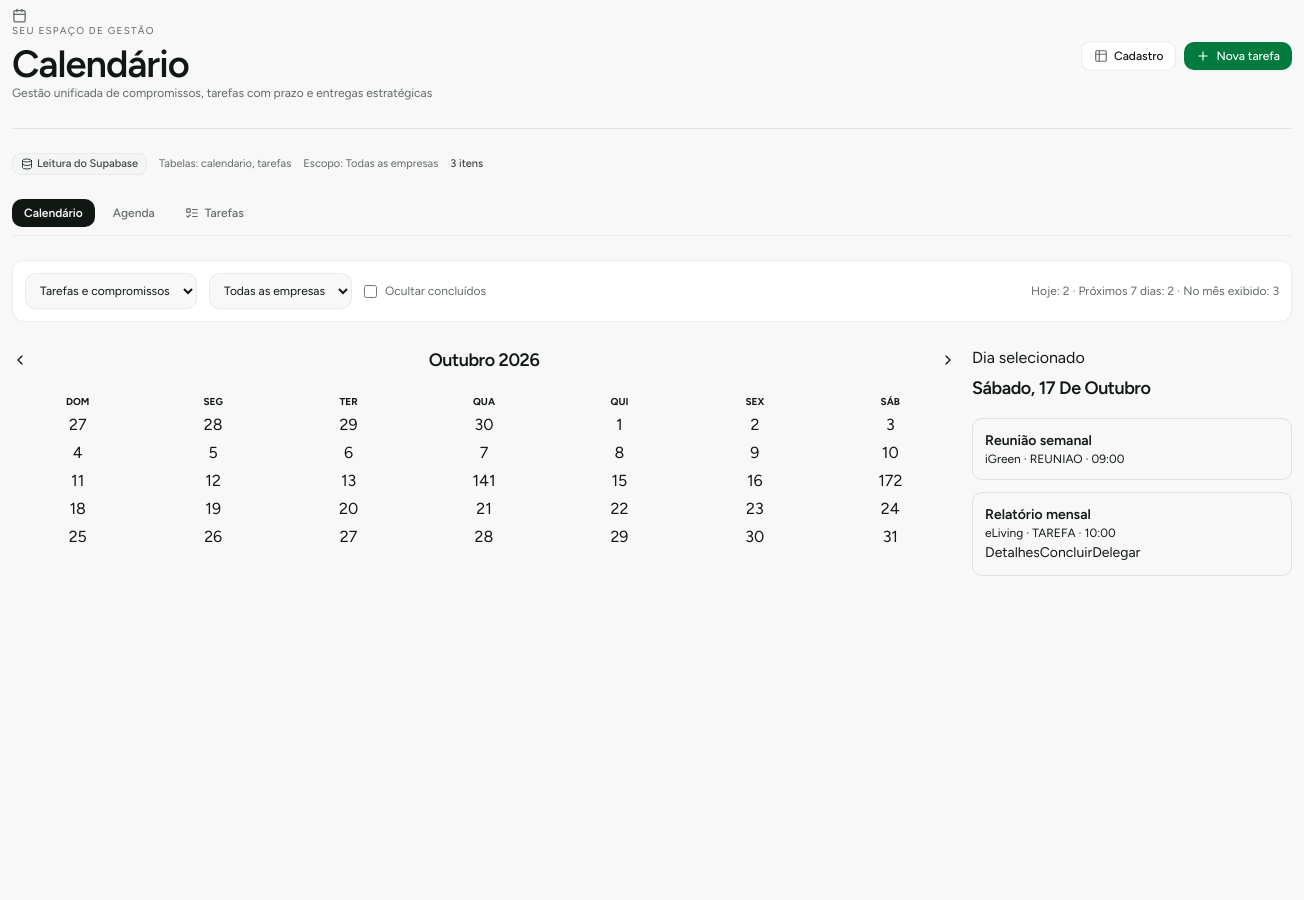
Test: filtra por tipo e oculta concluídos na agenda, com estado vazio que limpa os filtros
Expected: the element named "Origem dos dados" is shown, [12,152,483,175]
Click the button "Agenda": (134,213) [101,199,167,227]
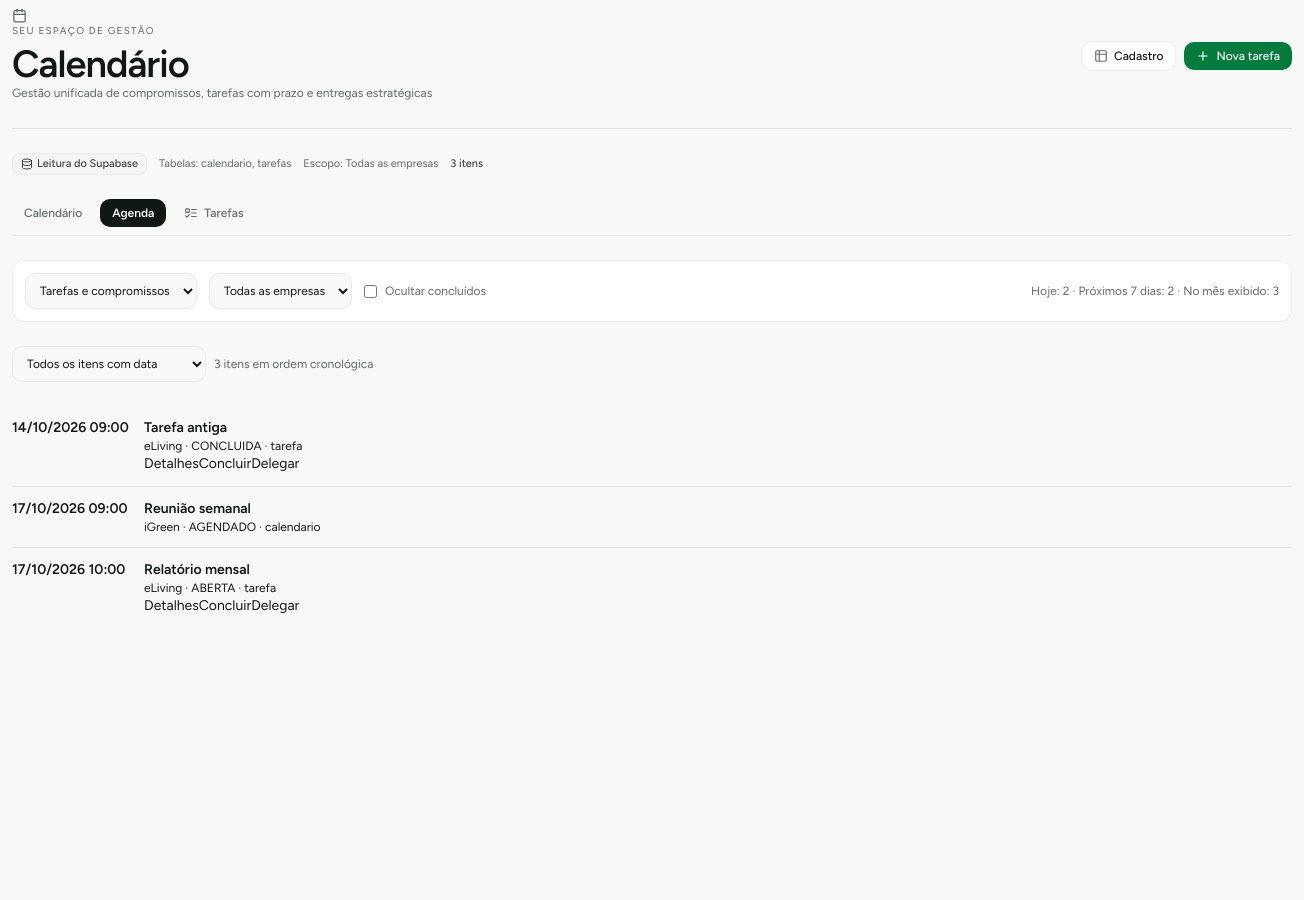
Result: the text "Tarefa antiga" is shown at [144,419,227,436]
Click the checkbox labelled "Ocultar concluídos": (370,291) [364,284,377,298]
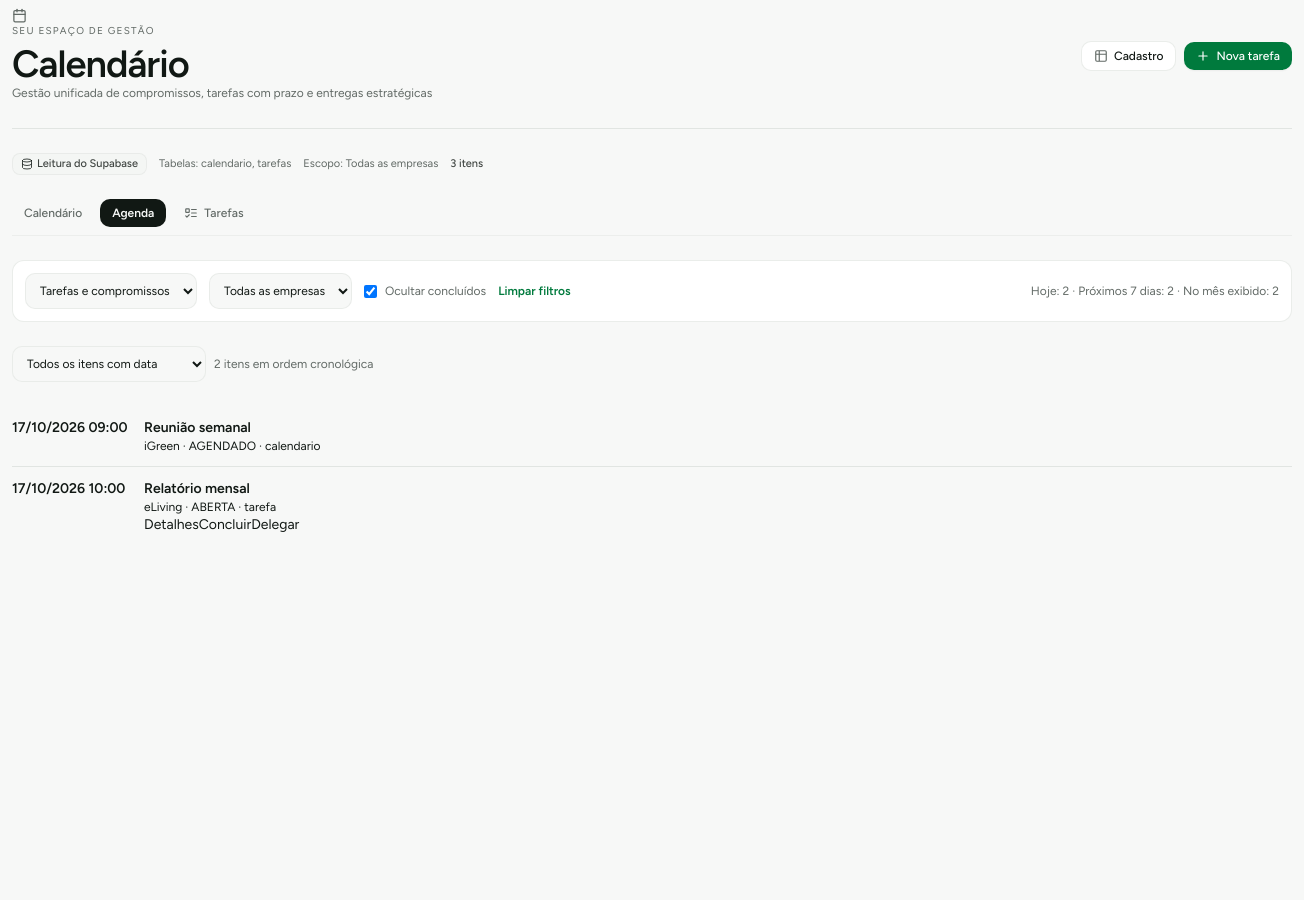
Result: the text "Tarefa antiga" is gone
Select "Só compromissos" in the dropdown named "Tipo de item": (111,291) [25,273,197,309]
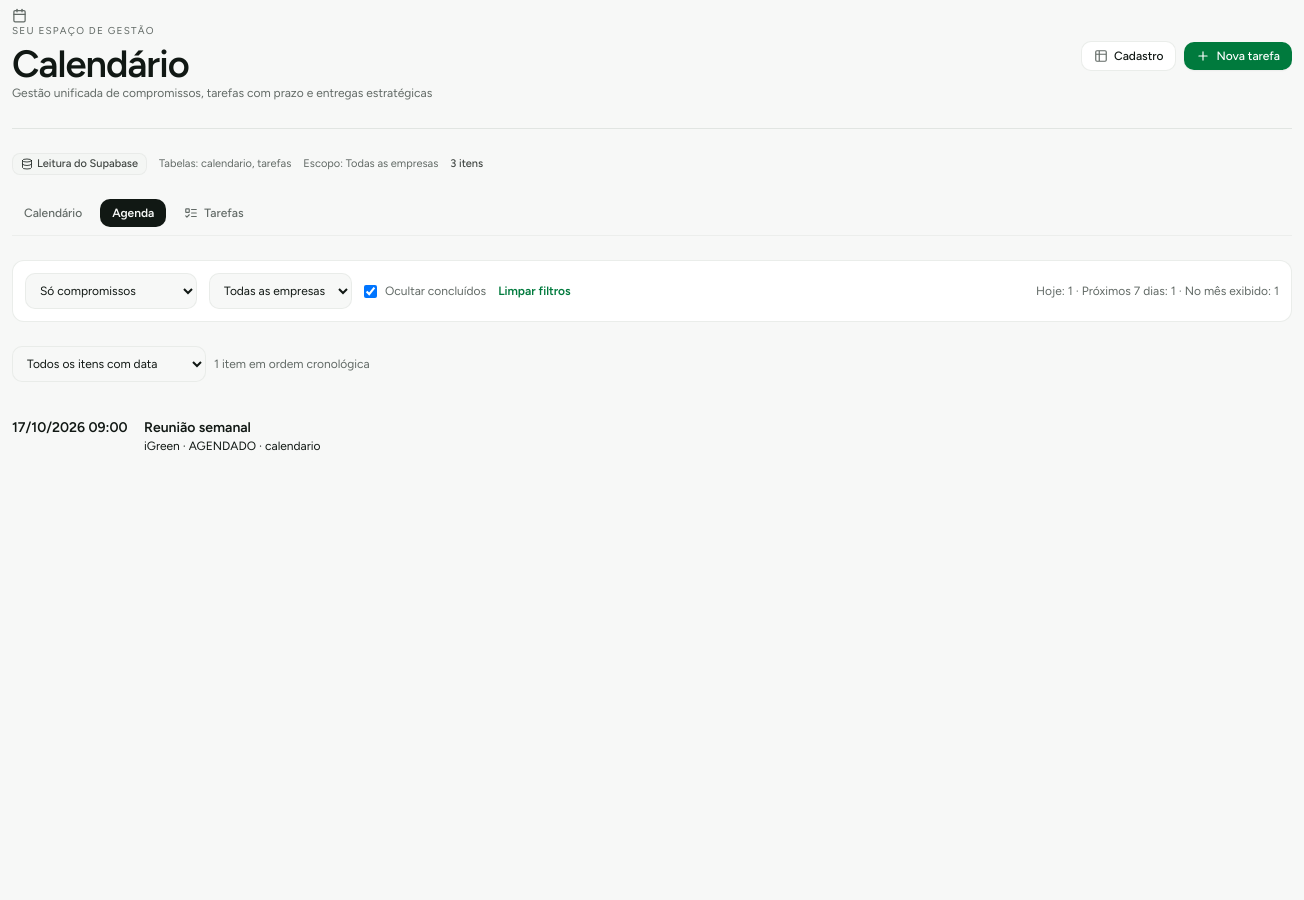
Expected: the text "Reunião semanal" is shown, [144,419,251,436]
Result: the text "Relatório mensal" is gone
Select "eLiving" in the dropdown named "Empresa": (280,291) [209,273,352,309]
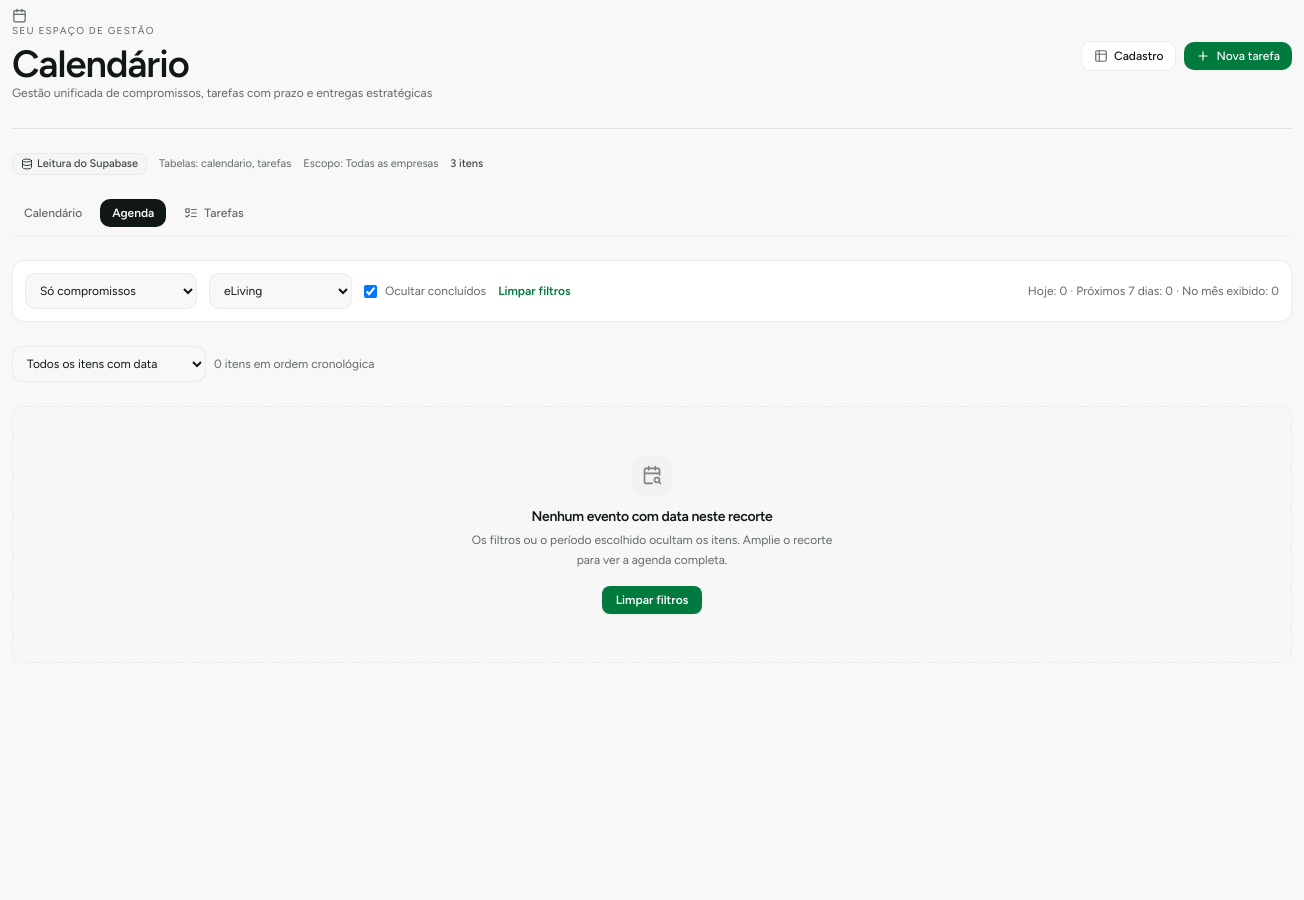
Result: the heading "Nenhum evento com data neste recorte" is shown at [532,507,772,527]
Click the button "Limpar filtros" next to "Ocultar concluídos": (534,291) [498,273,571,309]
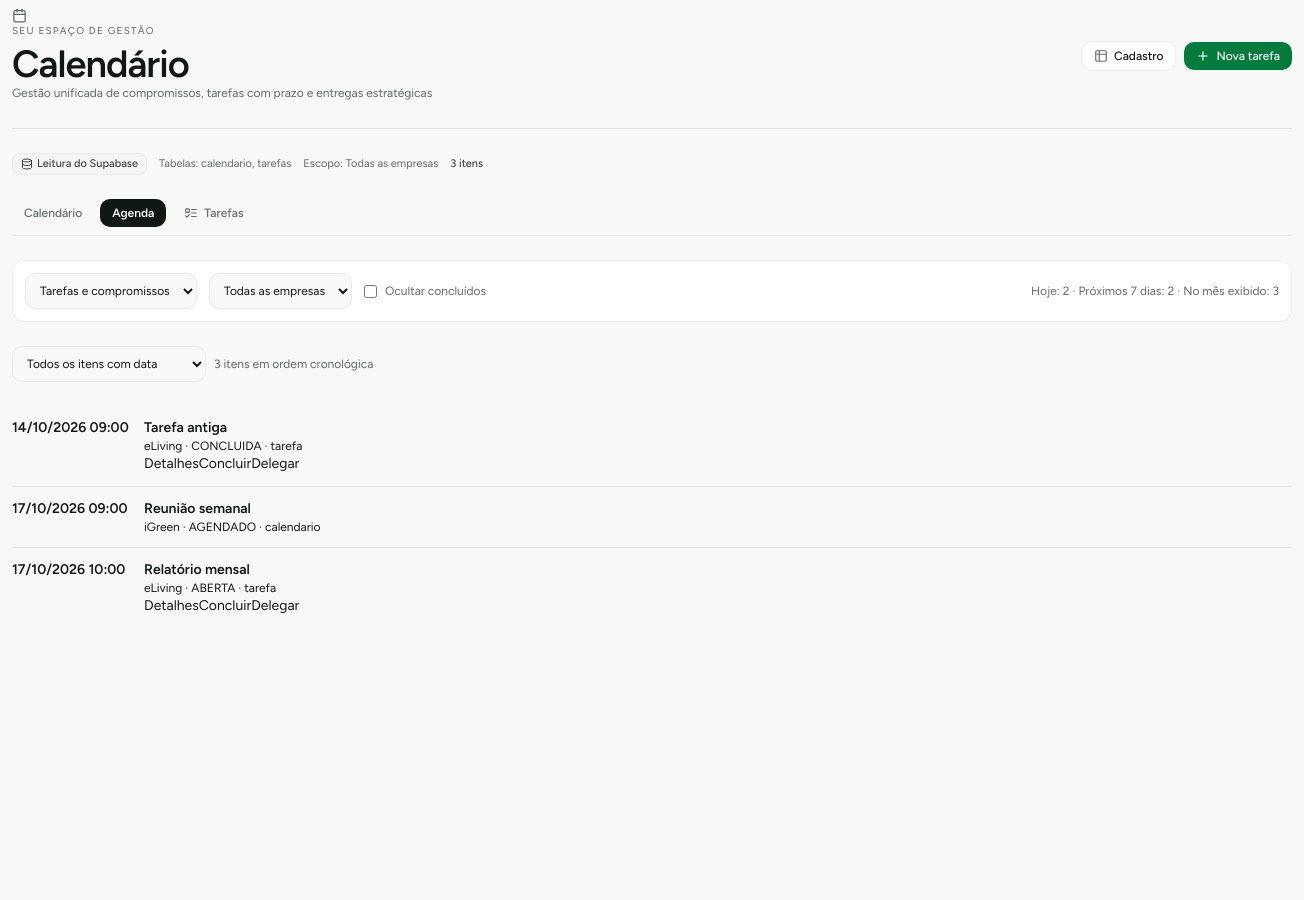
Result: the text "Reunião semanal" is shown at [144,500,251,517]
